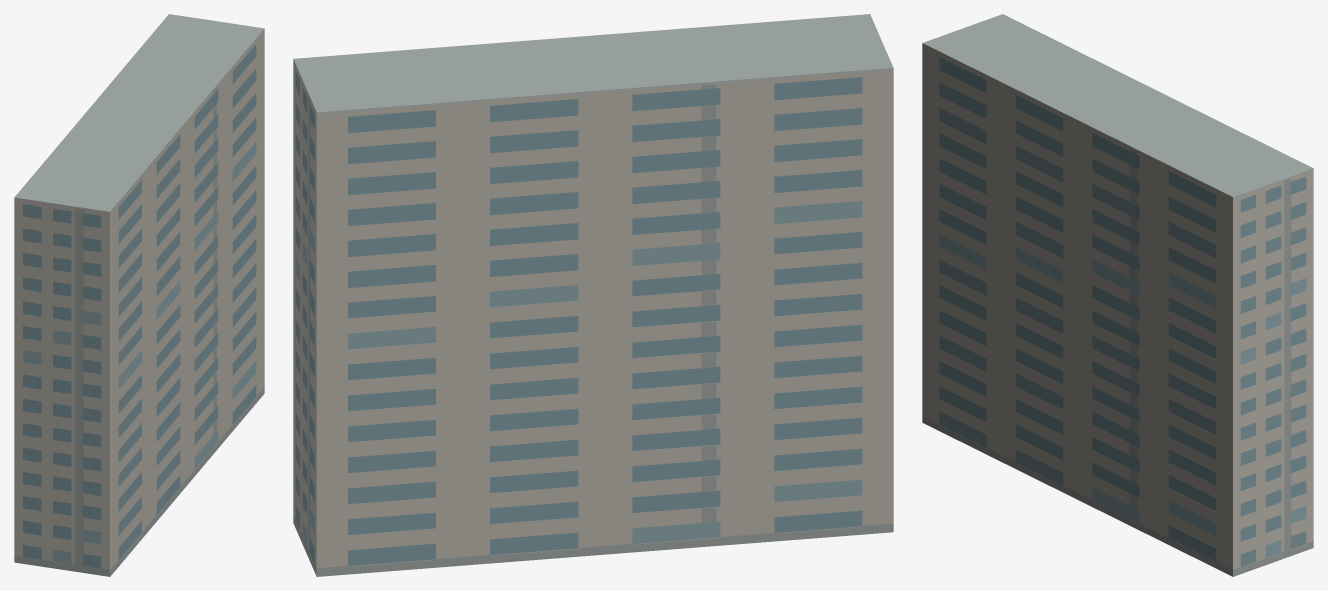
Rendered from residential-cb7f677c-e0fa-4c1b-a5cb-2e2c18e58ac1.glb.
3 renders of one model, left to right at view 1: azimuth 30°, elevation 25°; view 2: azimuth 150°, elevation 25°; view 3: azimuth 270°, elevation 25°, orthographic. The views are drawn at different scales.
Visible parts, largest first — view 1: residential-cb7f677c-e0fa-4c1b-a5cb-2e2c18e58ac1.tmp; view 2: residential-cb7f677c-e0fa-4c1b-a5cb-2e2c18e58ac1.tmp; view 3: residential-cb7f677c-e0fa-4c1b-a5cb-2e2c18e58ac1.tmp.
Part boxes in pixels (x1,y1,x2,y2): residential-cb7f677c-e0fa-4c1b-a5cb-2e2c18e58ac1.tmp: (14,14,264,576); residential-cb7f677c-e0fa-4c1b-a5cb-2e2c18e58ac1.tmp: (293,14,893,576); residential-cb7f677c-e0fa-4c1b-a5cb-2e2c18e58ac1.tmp: (922,14,1313,576).
Size of the model in its own units: 43.47 by 42 by 39.22.
